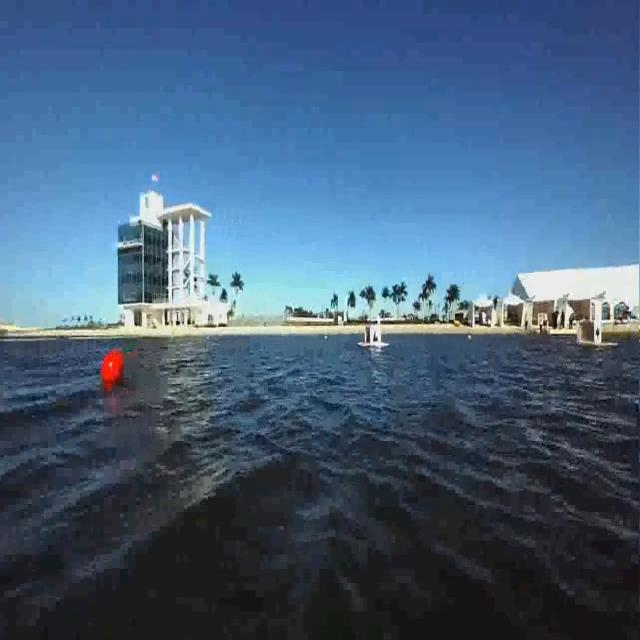red-buoy: (101, 348, 128, 390)
